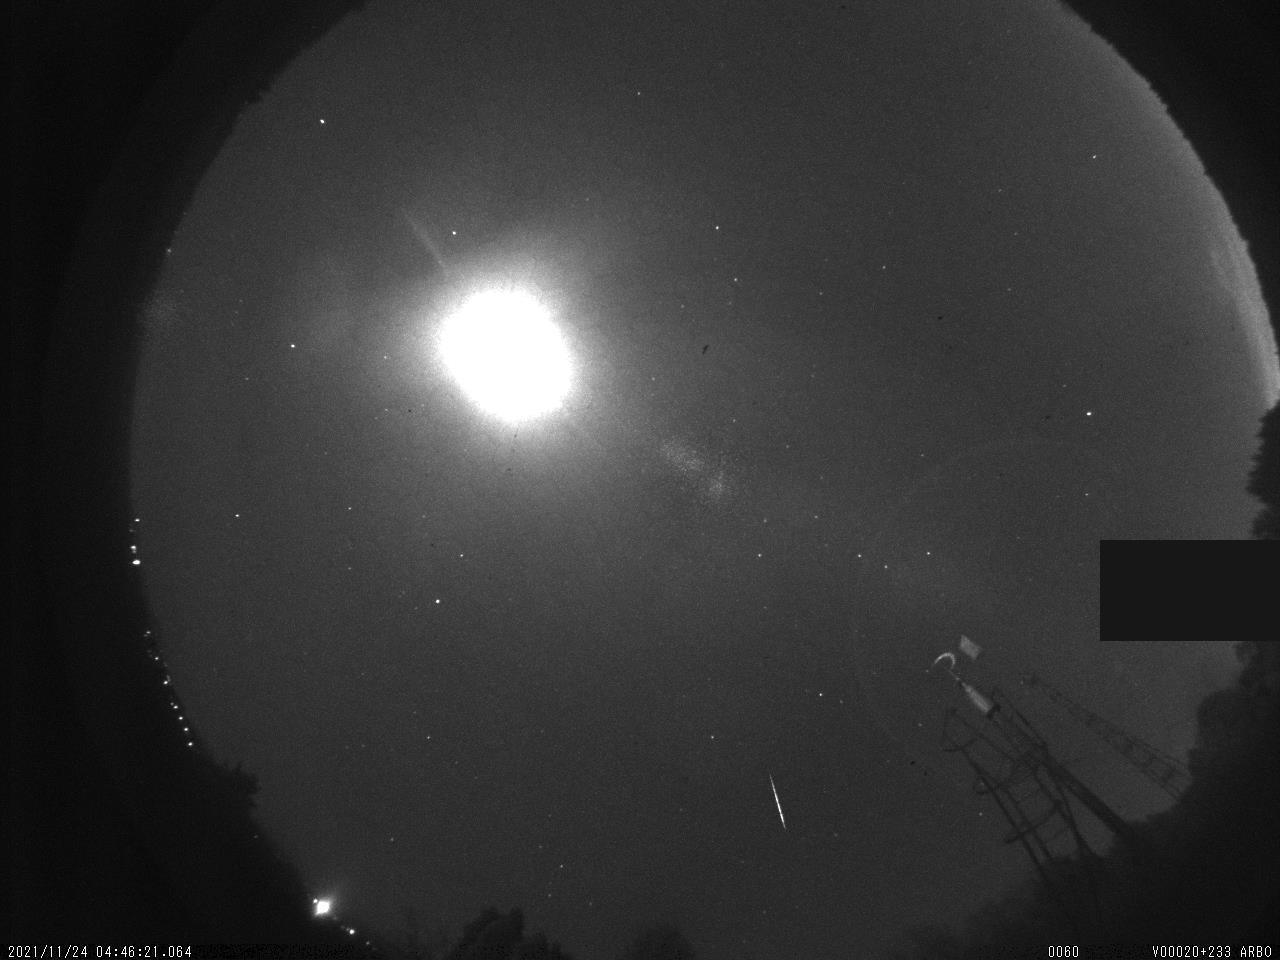meteor: (766, 764, 790, 832)
